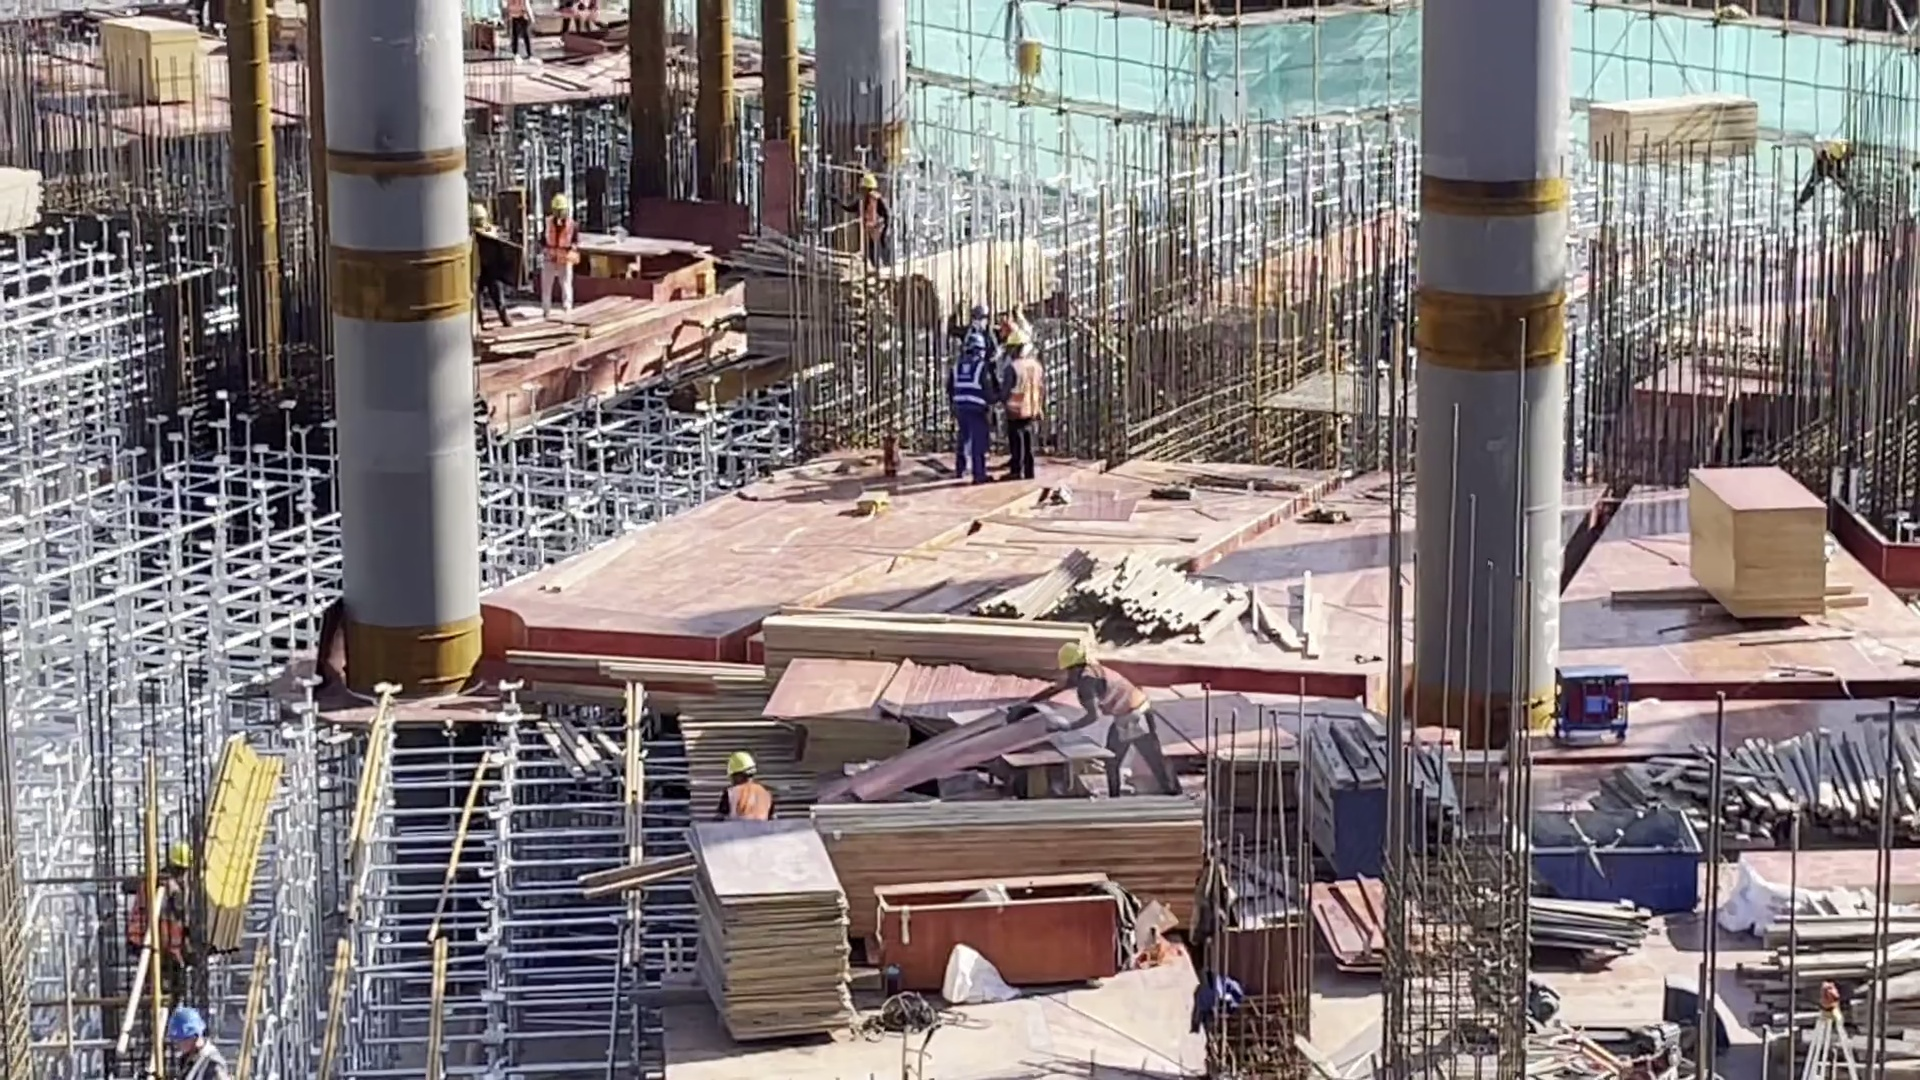board: (682, 818, 856, 1036), (1686, 466, 1829, 626), (768, 657, 901, 770), (98, 11, 208, 109), (1305, 868, 1389, 973)
cutter: (939, 702, 1126, 812), (572, 229, 715, 309)
ebox: (1009, 39, 1046, 102)
helmet: (167, 1006, 210, 1037), (165, 842, 195, 870), (1056, 644, 1090, 666), (722, 755, 757, 778), (1003, 327, 1031, 351), (470, 203, 490, 222), (964, 332, 987, 350), (972, 303, 990, 320), (550, 194, 569, 209), (860, 175, 878, 187)
hopper: (1520, 810, 1703, 912)
person: (1054, 640, 1171, 794), (107, 841, 199, 991), (999, 327, 1044, 482), (949, 332, 995, 479), (1791, 130, 1871, 210), (715, 751, 784, 831), (470, 203, 510, 338), (160, 1005, 228, 1080), (534, 195, 575, 316), (821, 175, 886, 242), (945, 305, 992, 345), (506, 1, 537, 58)
vest: (1083, 663, 1150, 724), (948, 362, 993, 420), (1008, 362, 1044, 423), (723, 782, 776, 820), (544, 219, 576, 272), (860, 191, 885, 234)
wood: (1729, 863, 1920, 1080), (1598, 722, 1920, 838), (982, 550, 1323, 657), (816, 801, 1214, 888), (731, 234, 888, 371), (751, 583, 1089, 642), (894, 237, 1061, 328), (1583, 92, 1756, 163), (1, 165, 48, 240)
